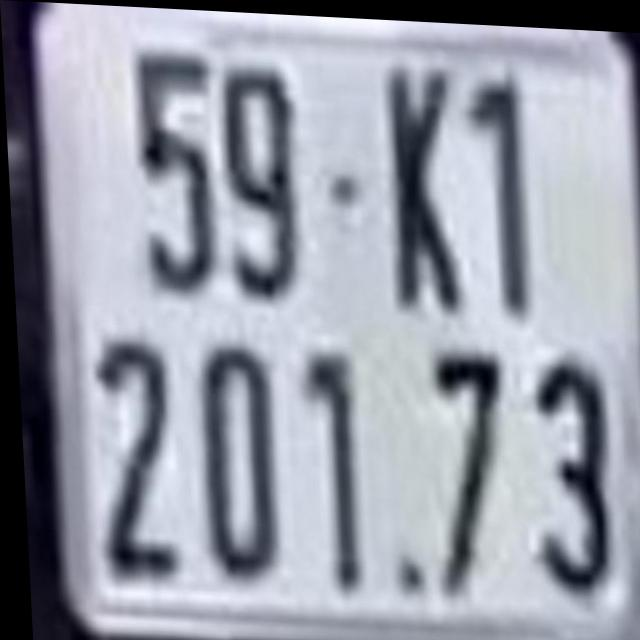0: (194, 345, 271, 571)
1: (465, 62, 527, 308), (295, 341, 356, 575)
2: (90, 336, 172, 577)
3: (534, 351, 609, 589)
5: (134, 48, 208, 280)
7: (426, 344, 504, 607)
9: (219, 63, 294, 294)
K: (386, 53, 463, 303)
